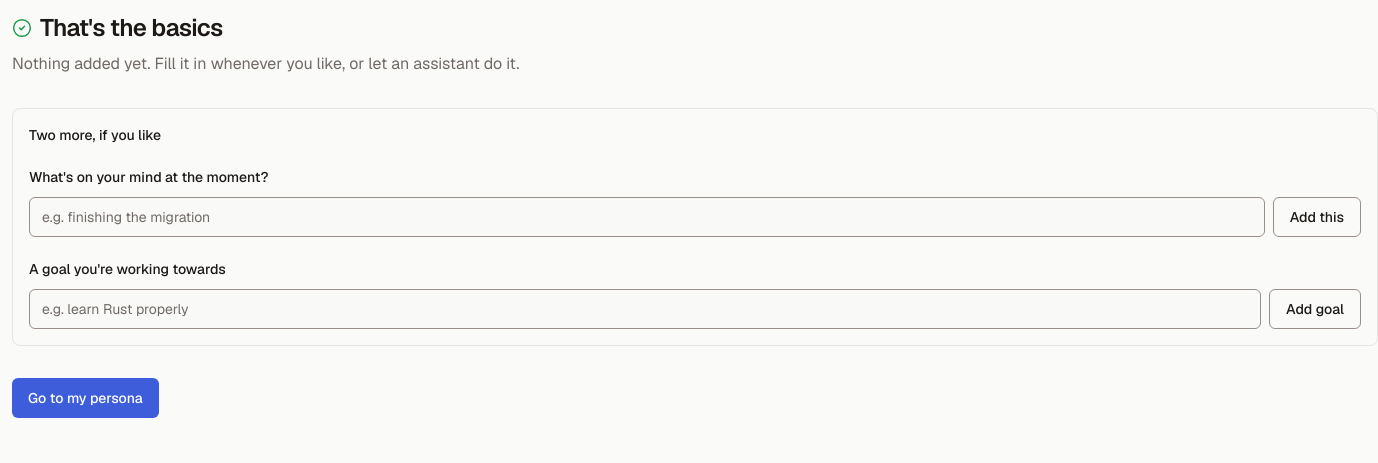
Test: StepComplete › confirms an extra where it was added
Type "Learn Rust" into the field labelled "A goal you're working towards" at x=645, y=309, box top-left (29, 289), bottom-right (1261, 329)
Then press Enter
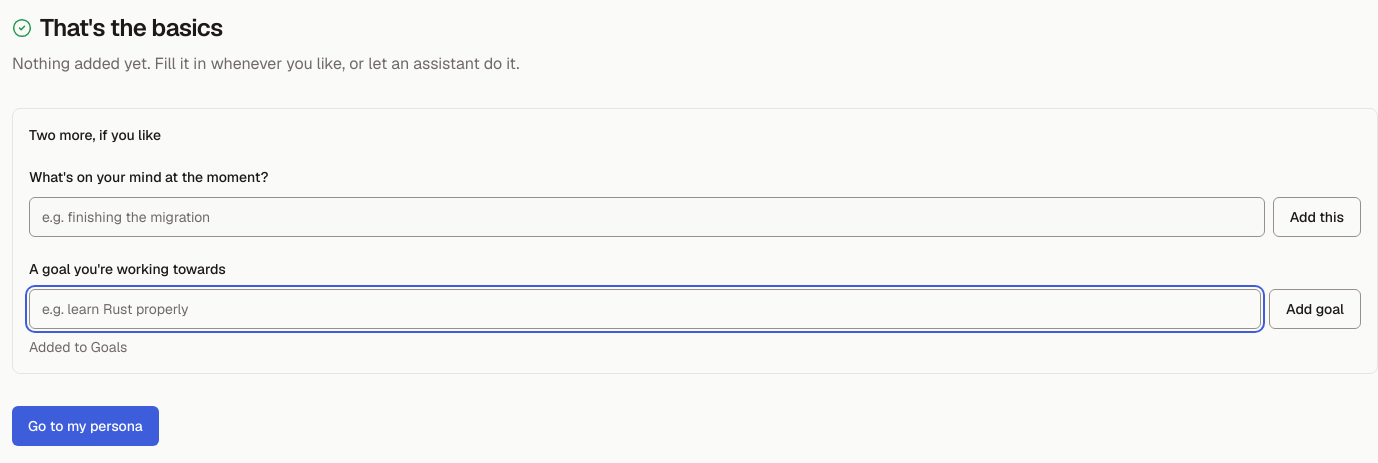
Expected: the message reads "Added to Goals", top-left (29, 338), bottom-right (127, 356)
